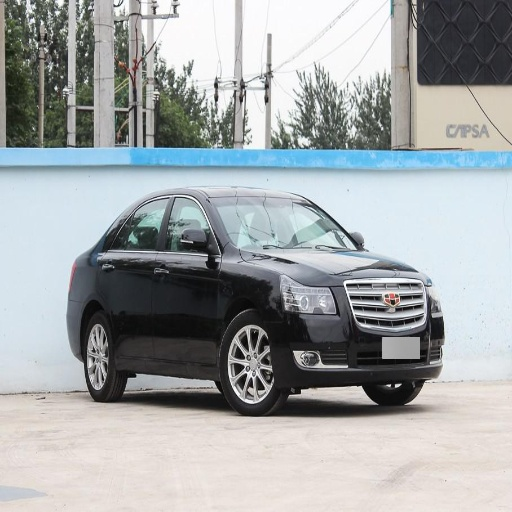front_bumper: (285, 270, 446, 384)
front_right_door: (155, 195, 220, 368)
front_right_light: (283, 278, 338, 314)
